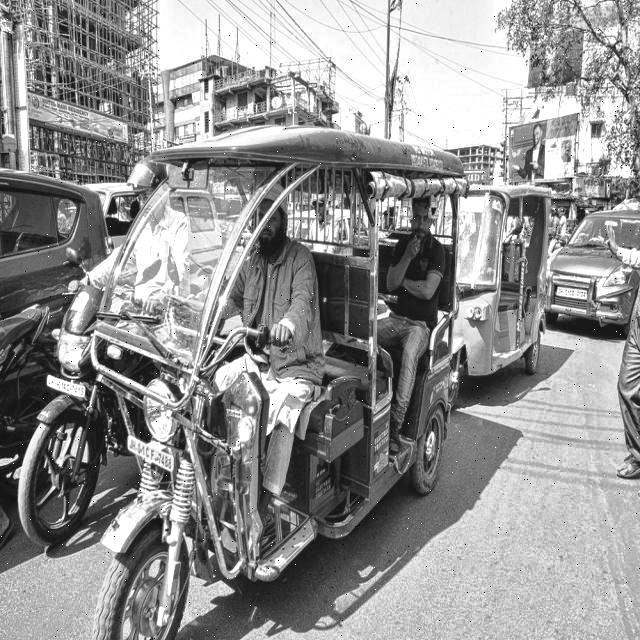Toto: (105, 126, 460, 640)
